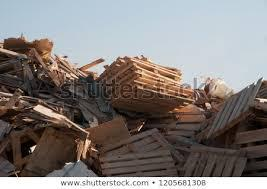wood: (96, 52, 191, 119), (99, 126, 185, 174), (209, 76, 264, 140), (25, 130, 81, 173), (186, 150, 248, 173)
